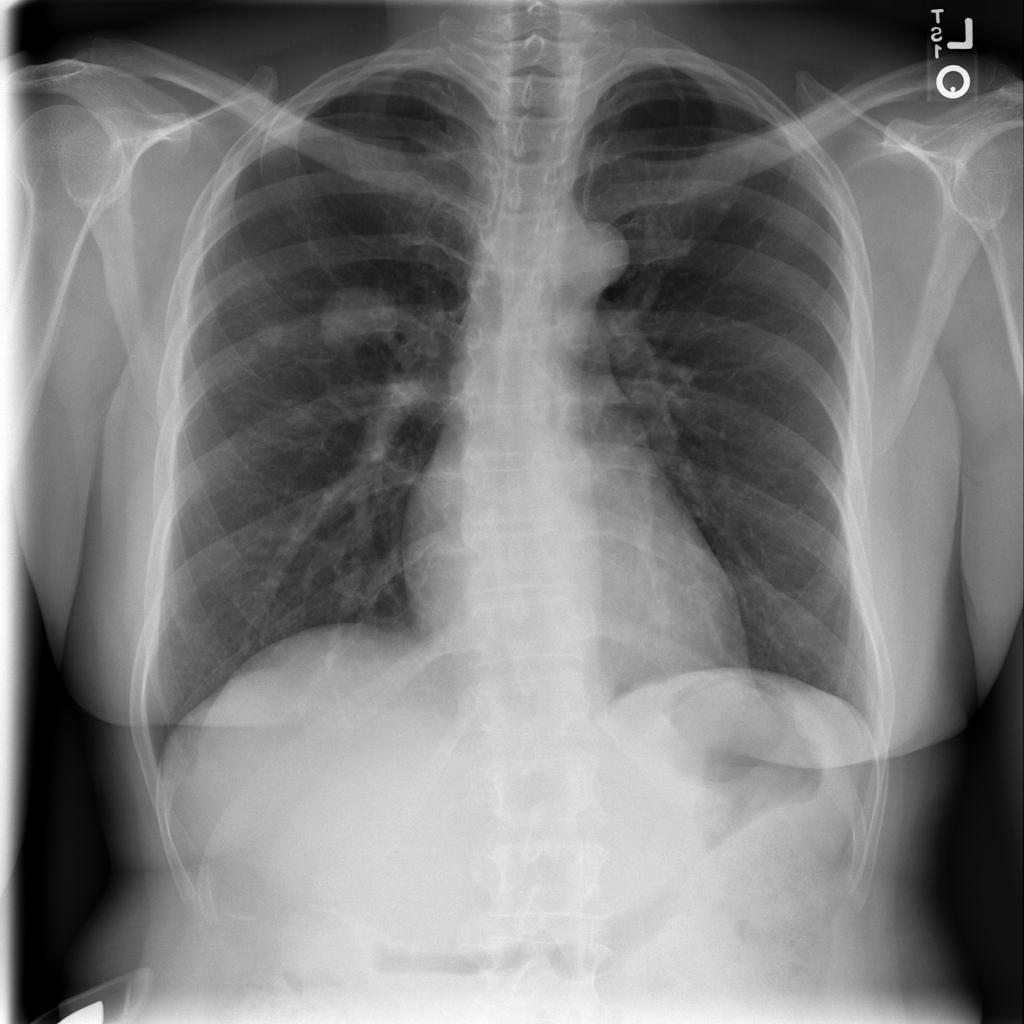nodule: (306, 270, 417, 368), (246, 308, 299, 358), (699, 178, 753, 225)
